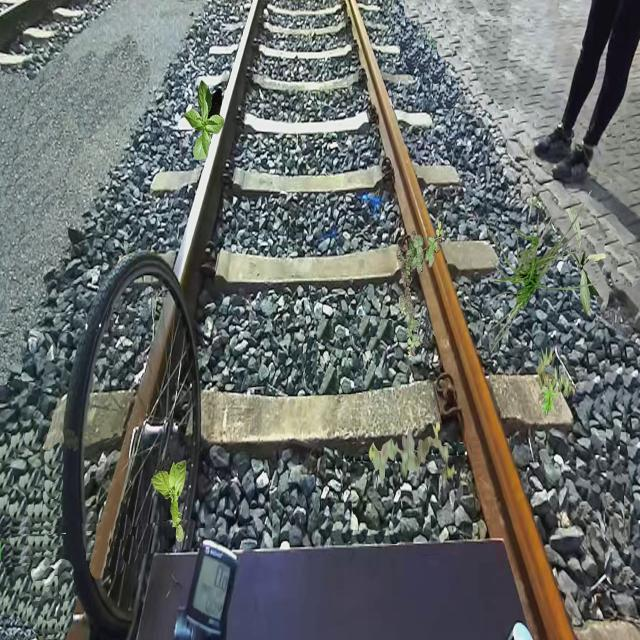Plant: (480, 189, 598, 352), (397, 221, 446, 359), (368, 421, 454, 489), (567, 207, 607, 317), (183, 80, 225, 160), (535, 346, 576, 418), (151, 459, 186, 542), (542, 384, 560, 416)
